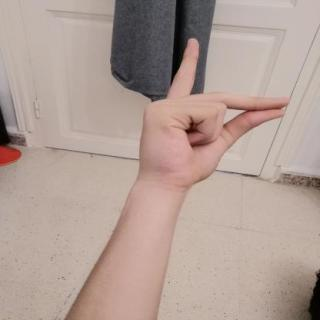TAA: (128, 30, 298, 196)
